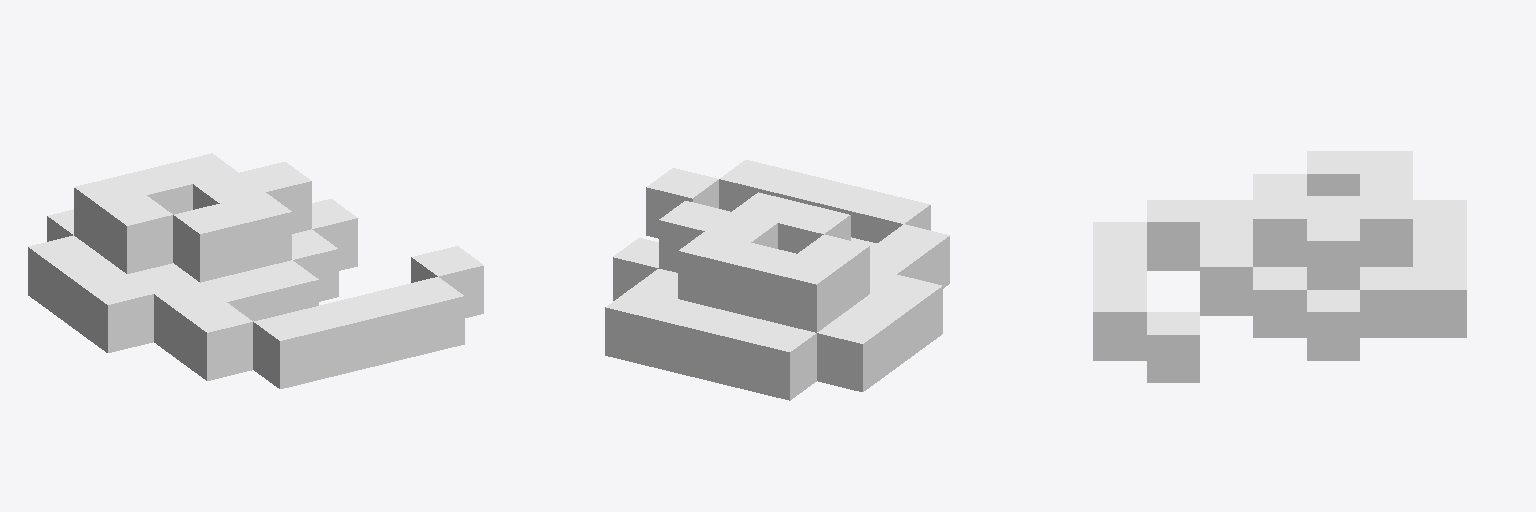
The model's file is obj-rope.obj.
The picture shows the model from 3 angles: view 1: azimuth 30°, elevation 25°; view 2: azimuth 150°, elevation 25°; view 3: azimuth 270°, elevation 25°; orthographic projection.
Parts seen in each view (by area): view 1: rope; view 2: rope; view 3: rope.
Boxes of the visible parts, <box> form: rope: <box>28,153,483,388</box>; rope: <box>605,160,949,400</box>; rope: <box>1093,151,1466,382</box>.
Bounding box in the file's own units: 0.7 × 0.2 × 0.7.